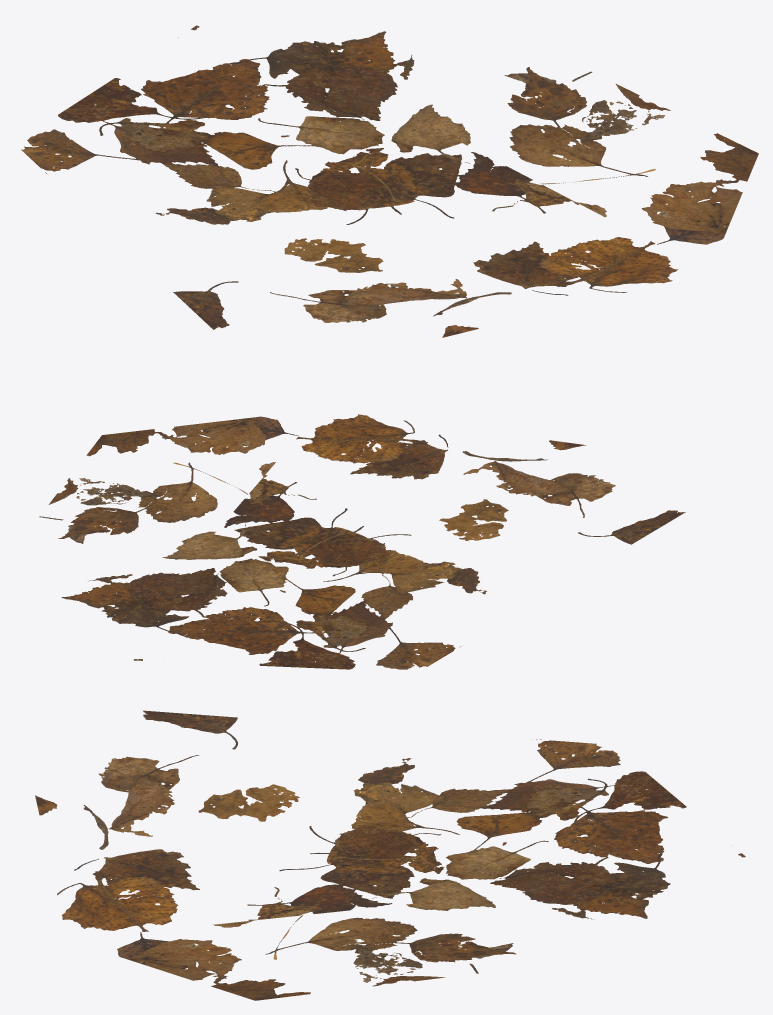
Rendered from SM_Leaves02.fbx.
3 views of the same model, one above another, from view 1: azimuth 30°, elevation 25°; view 2: azimuth 150°, elevation 25°; view 3: azimuth 270°, elevation 25° (orthographic). The views are drawn at different scales.
Visible parts, largest first — view 1: SM_Leaves02; view 2: SM_Leaves02; view 3: SM_Leaves02.
Part boxes in pixels (x1=…): SM_Leaves02: x1=21, y1=25, x2=758, y2=337; SM_Leaves02: x1=39, y1=414, x2=685, y2=669; SM_Leaves02: x1=35, y1=710, x2=745, y2=1000.
Size of the model in its own units: 80.5 by 3.3 by 89.78.
